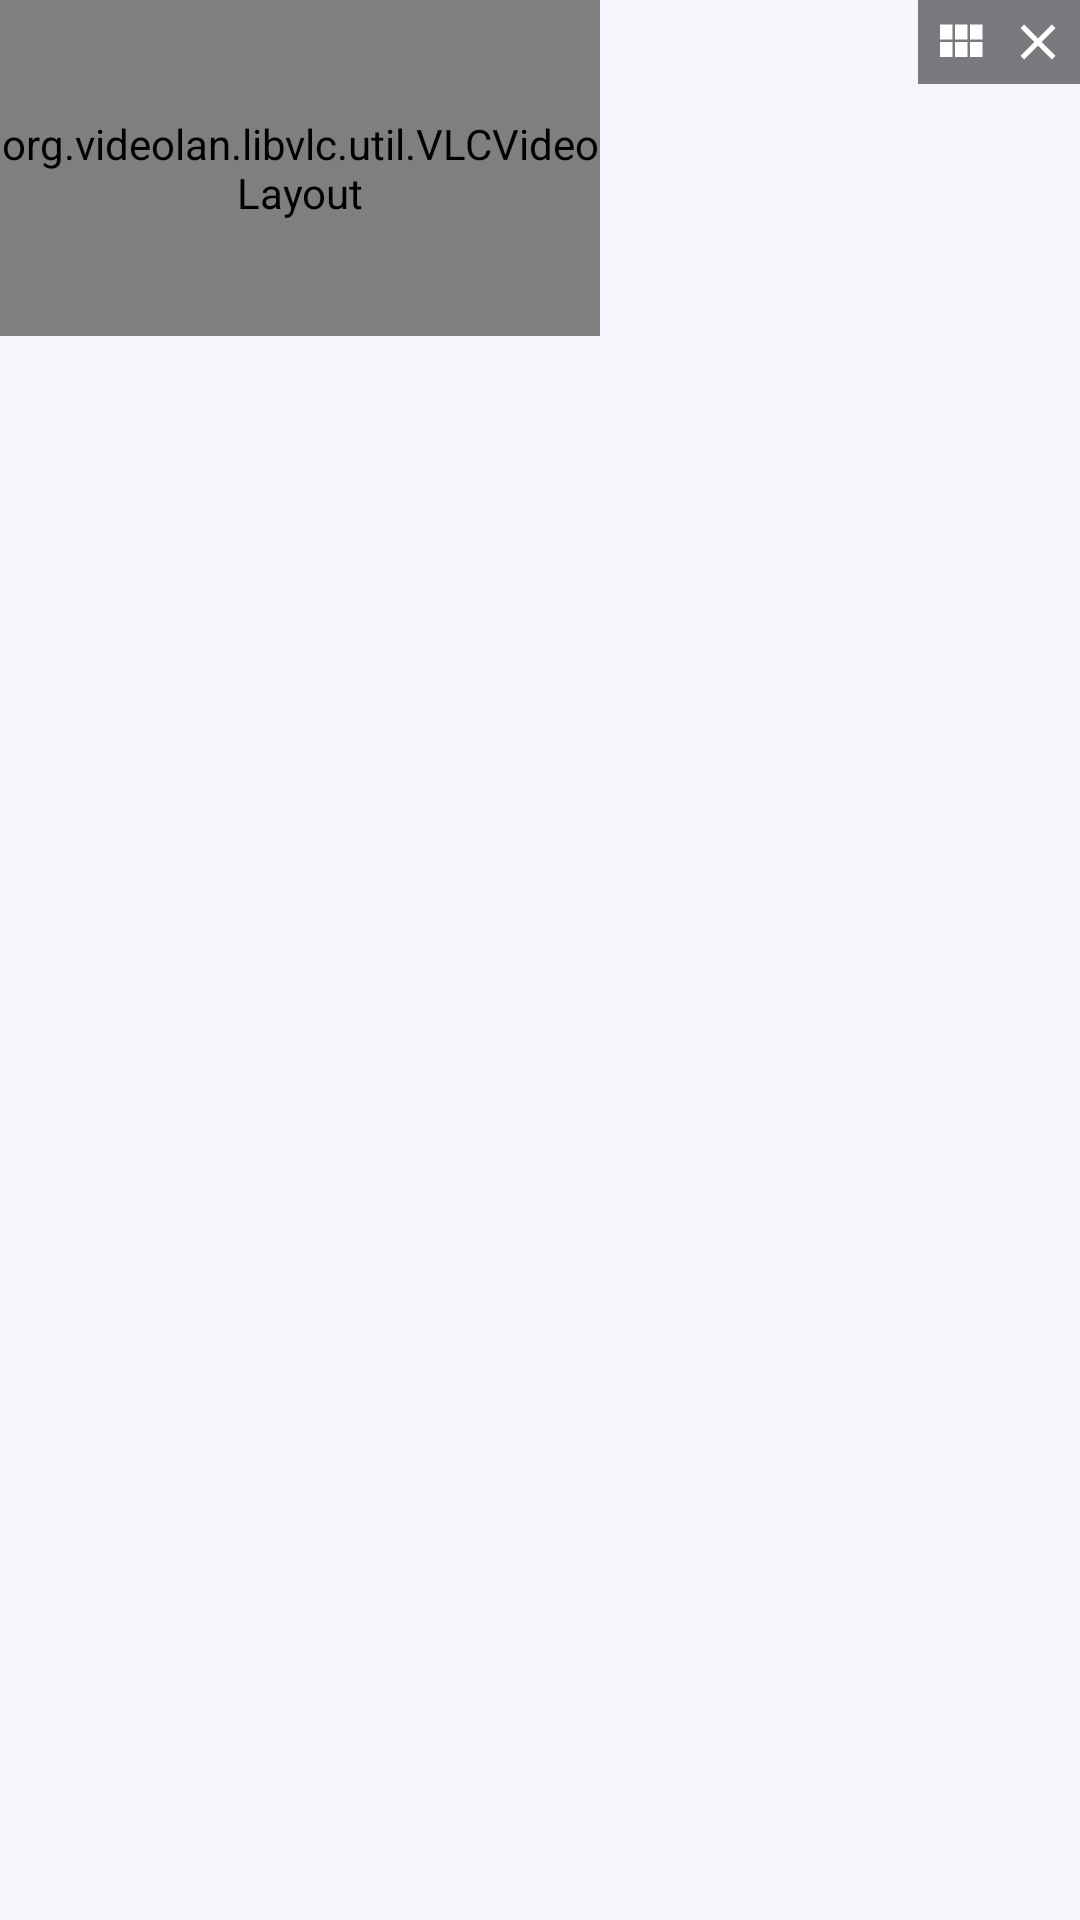

Named icons in this screenshot (1080 × 1920) and their centers, point (x, y):
close: point (1038, 42)
grid: point (961, 40)
